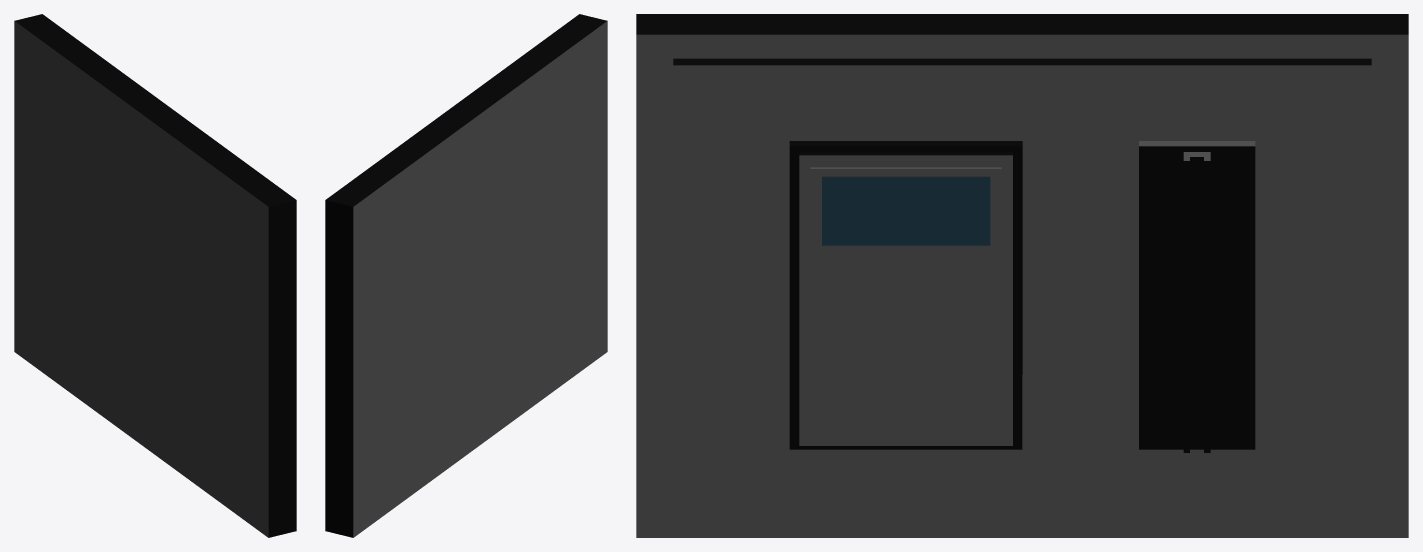
Rendered from KeycardReader.fbx.
3 views of the same model, side by side, from view 1: azimuth 30°, elevation 25°; view 2: azimuth 150°, elevation 25°; view 3: azimuth 270°, elevation 25° (orthographic). The views are drawn at different scales.
Parts seen in each view (by area): view 1: Cube.049; view 2: Cube.049; view 3: Cube.049.
Part boxes in pixels (x1=…): Cube.049: x1=14, y1=14, x2=296, y2=537; Cube.049: x1=325, y1=14, x2=607, y2=537; Cube.049: x1=636, y1=14, x2=1408, y2=537.
Bounding box in the file's own units: 8 × 45.33 × 63.05.
